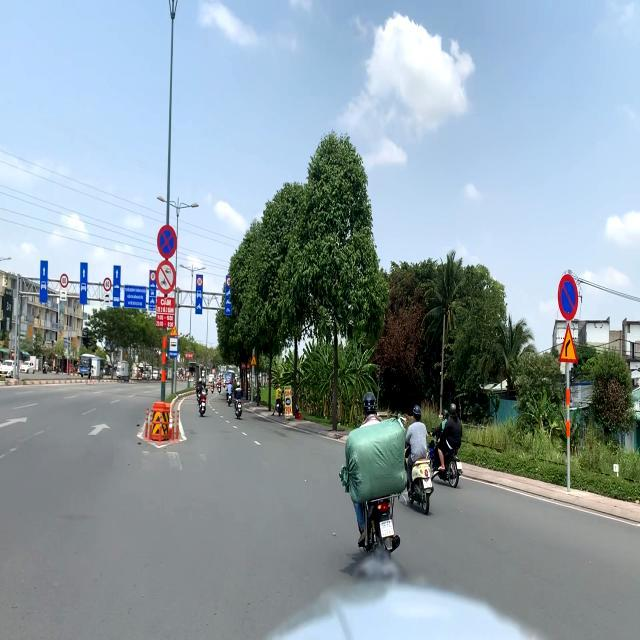Ben xe buyt: (169, 337, 178, 357)
Cam do xe: (558, 274, 578, 322)
Cam dung xe va do xe: (156, 224, 178, 259)
Nguoi di bo cat ngang: (250, 354, 258, 366)
Toc do toi da cho phep: (103, 277, 112, 292), (60, 274, 68, 288), (226, 276, 232, 288), (150, 272, 156, 282), (197, 276, 202, 286)
cho ngoat nguy hiem vong ben phai: (557, 322, 578, 363), (170, 324, 178, 336)
